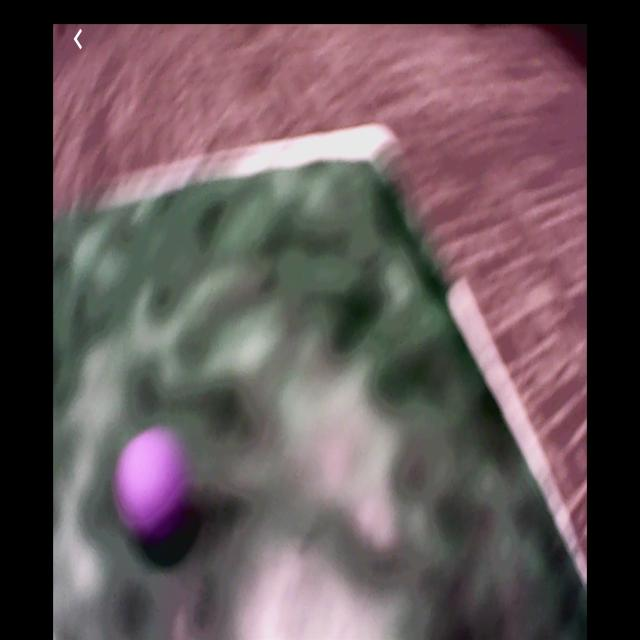ball: (116, 433, 185, 533)
